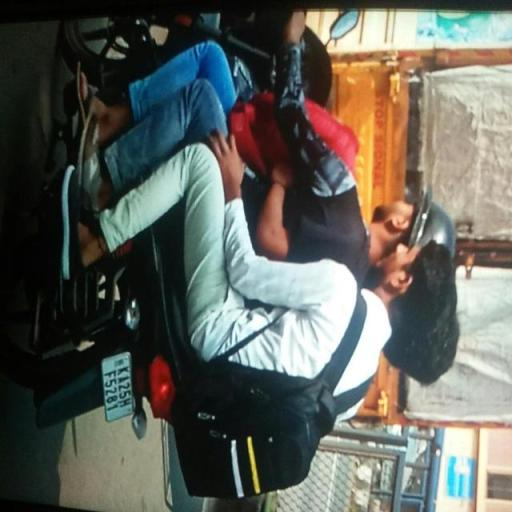tripple riding: (186, 12, 463, 510)
